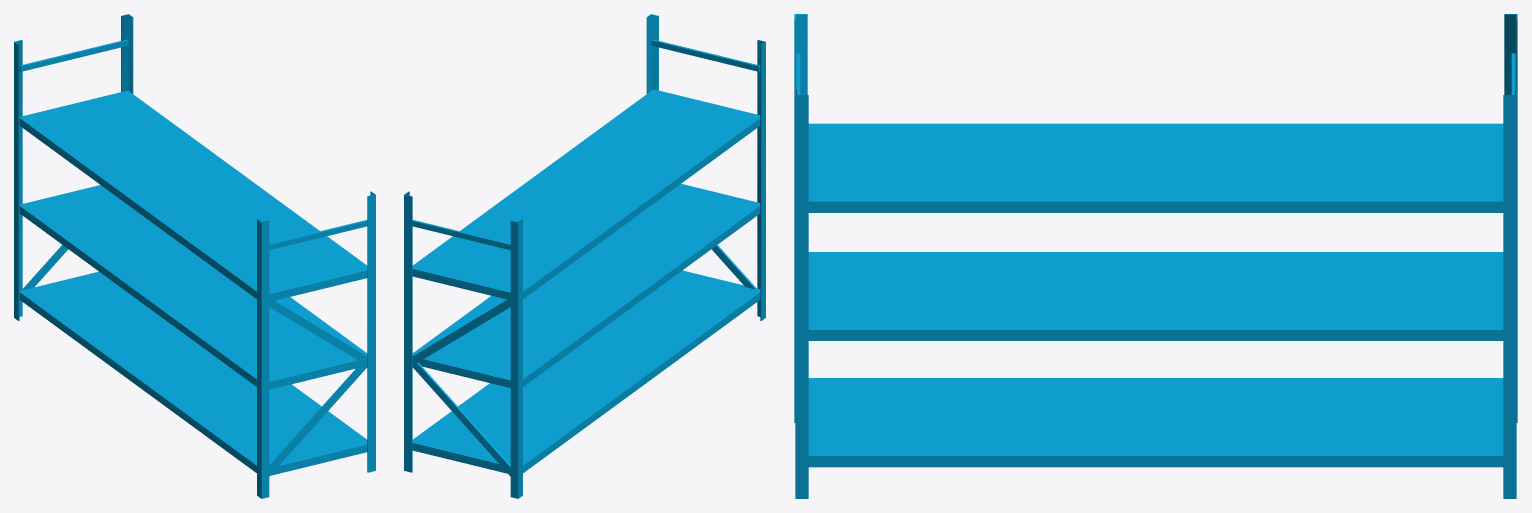
Rendered from Warehouse_Shelf_01B_Lod0.fbx.
The picture shows the model from 3 angles, left to right: view 1: azimuth 30°, elevation 25°; view 2: azimuth 150°, elevation 25°; view 3: azimuth 270°, elevation 25°; orthographic projection. The views are drawn at different scales.
Parts seen in each view (by area): view 1: Warehouse_Shelf_01B_Lod0; view 2: Warehouse_Shelf_01B_Lod0; view 3: Warehouse_Shelf_01B_Lod0.
Boxes of the visible parts, left/top/right/bottom form: Warehouse_Shelf_01B_Lod0: left=14, top=14, right=375, bottom=498; Warehouse_Shelf_01B_Lod0: left=404, top=14, right=765, bottom=498; Warehouse_Shelf_01B_Lod0: left=794, top=14, right=1517, bottom=498.
Bounding box in the file's own units: 74.65 × 172 × 279.
